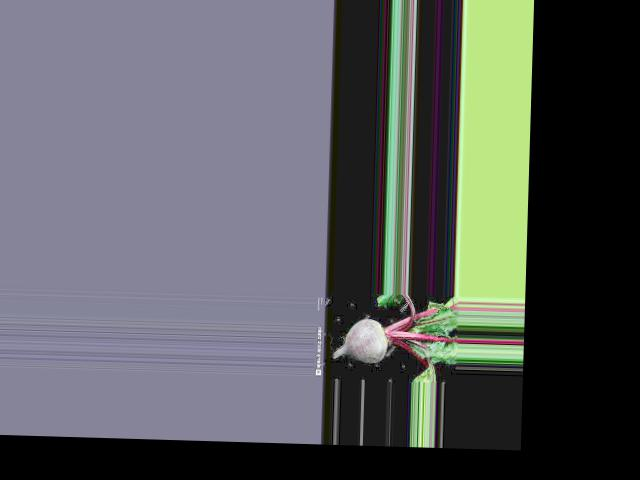beet: (332, 291, 458, 382)
